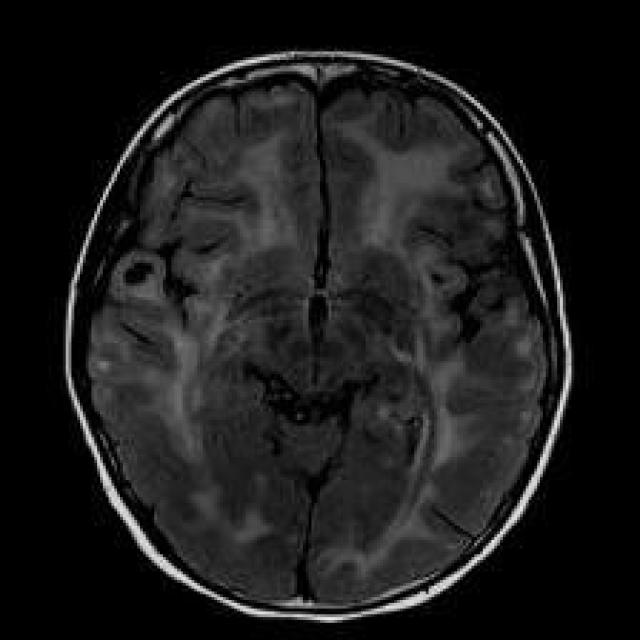no_tumor: (50, 32, 566, 636)
